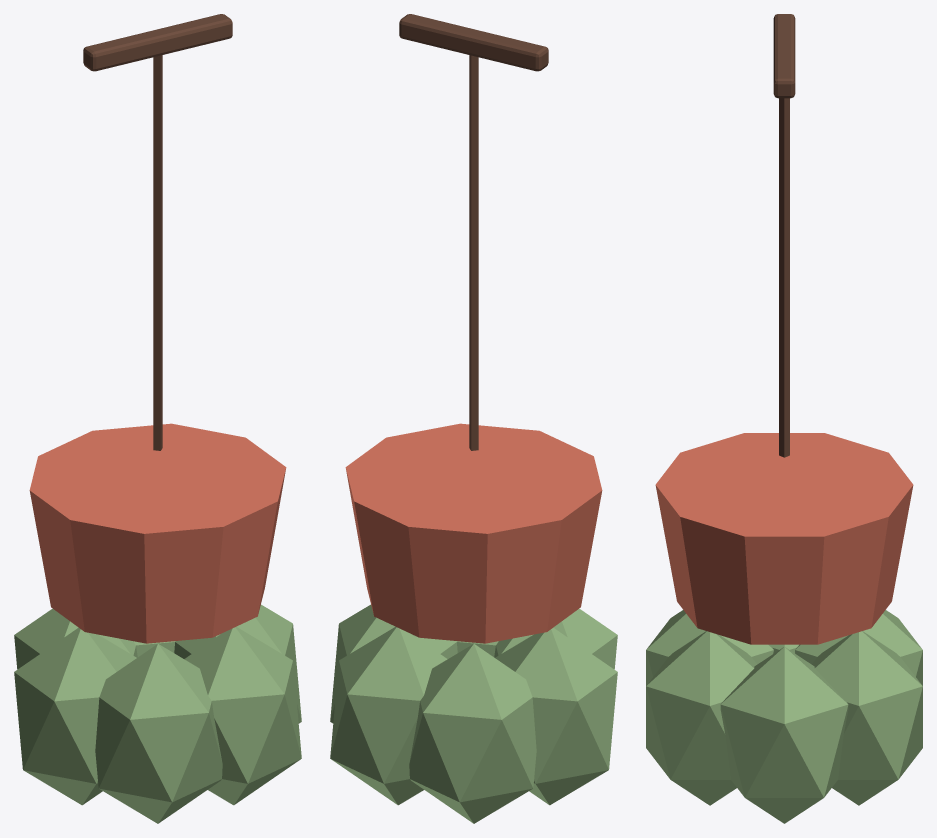
The model's file is hanging_plant.glb.
3 renders of one model, left to right at view 1: azimuth 30°, elevation 25°; view 2: azimuth 150°, elevation 25°; view 3: azimuth 270°, elevation 25°, orthographic.
Visible parts, largest first — view 1: hanging_plant; view 2: hanging_plant; view 3: hanging_plant.
Boxes of the visible parts, x1,y1,x2,y2 form: hanging_plant: (14,14,301,823); hanging_plant: (330,14,617,823); hanging_plant: (646,14,922,823).
Size of the model in its own units: 0.2852 by 0.761 by 0.2577.
